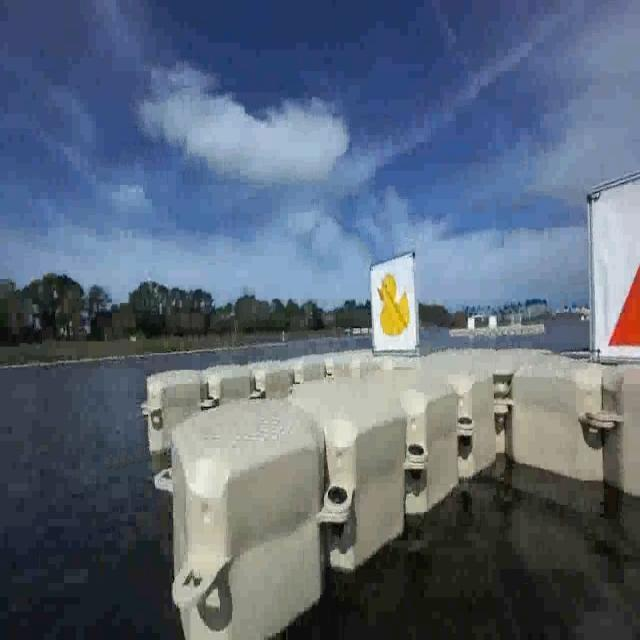red-dot: (591, 199, 640, 364)
yellow-duck: (377, 270, 410, 338)
